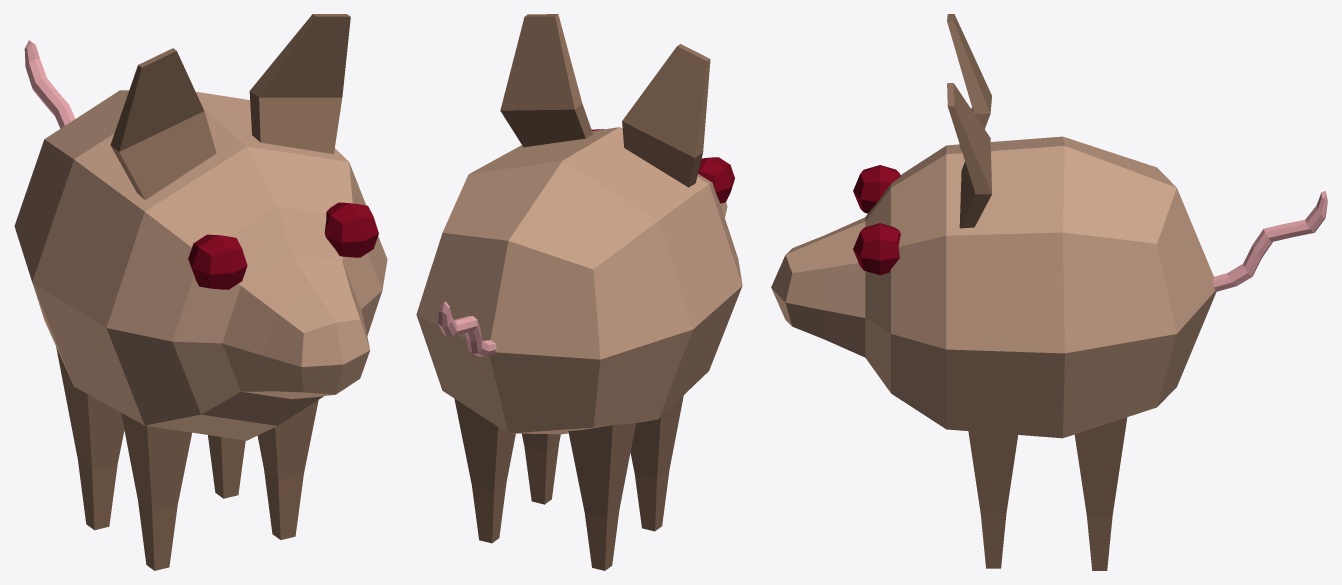
Rendered from weird_russian_pig_thing.glb.
3 views of the same model, side by side, from view 1: azimuth 30°, elevation 25°; view 2: azimuth 150°, elevation 25°; view 3: azimuth 270°, elevation 25° (orthographic). The views are drawn at different scales.
Visible parts, largest first — view 1: Cube.003; view 2: Cube.003; view 3: Cube.003.
Part boxes in pixels (<box>): Cube.003: <box>14,14,387,570</box>; Cube.003: <box>416,14,742,570</box>; Cube.003: <box>771,14,1327,570</box>.
Size of the model in its own units: 1.73 by 2.98 by 3.08.
